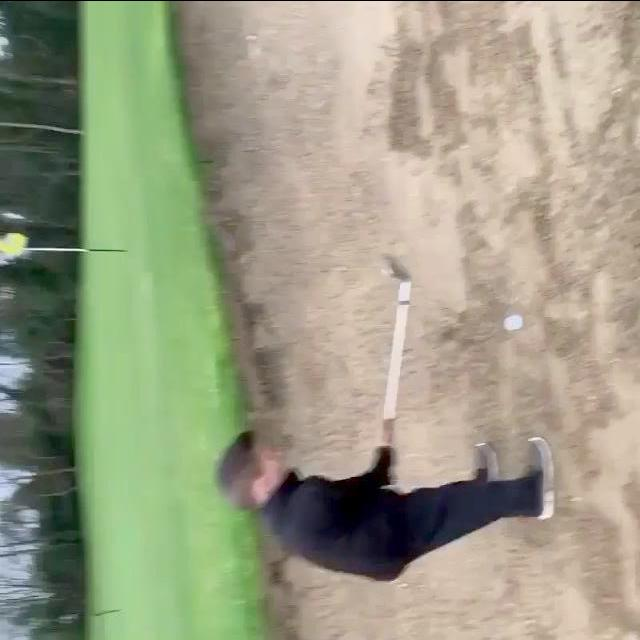golf ball: (508, 309, 525, 329)
golf club-handle: (371, 255, 417, 489)
golf club-head: (378, 263, 411, 286)
